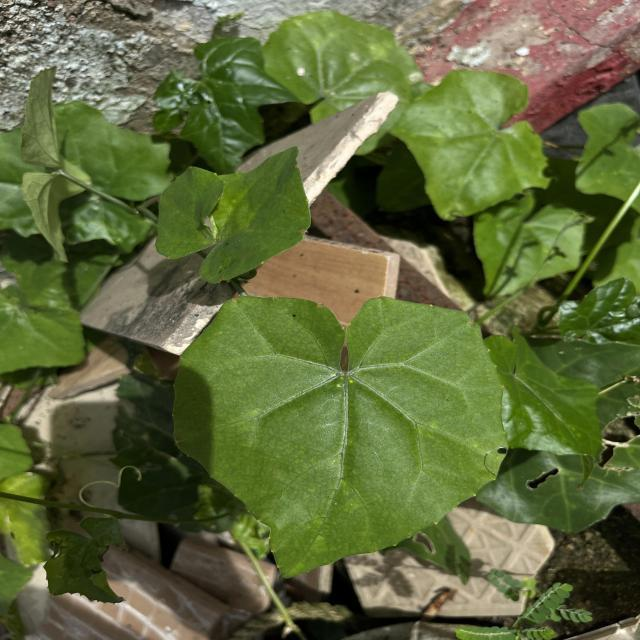Coccinia grandis: (168, 290, 515, 584)
